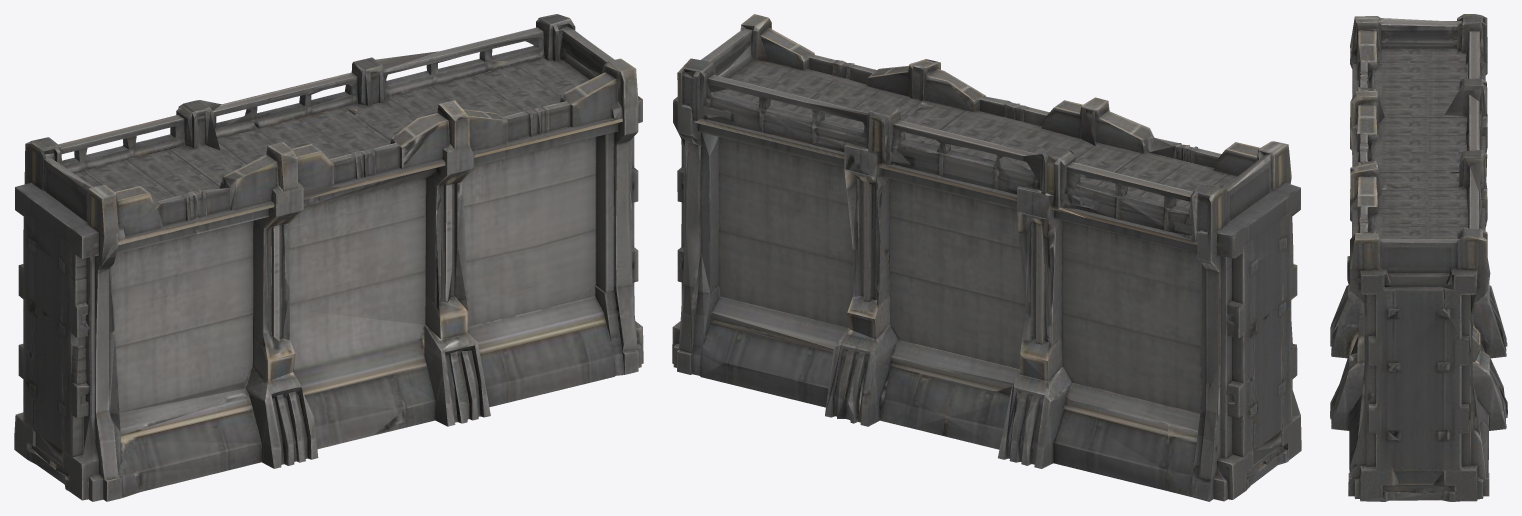
Rendered from imperial_city_wall_straight_lod1.glb.
3 views of the same model, side by side, from view 1: azimuth 30°, elevation 25°; view 2: azimuth 150°, elevation 25°; view 3: azimuth 270°, elevation 25° (orthographic). The views are drawn at different scales.
Visible parts, largest first — view 1: mesh_node; view 2: mesh_node; view 3: mesh_node.
Boxes of the visible parts, x1=… form: mesh_node: x1=14, y1=14, x2=643, y2=501; mesh_node: x1=672, y1=14, x2=1301, y2=501; mesh_node: x1=1330, y1=14, x2=1507, y2=501.
Size of the model in its own units: 11.9 by 6.1 by 3.77.
Materials: 1 (1 with a texture image).
